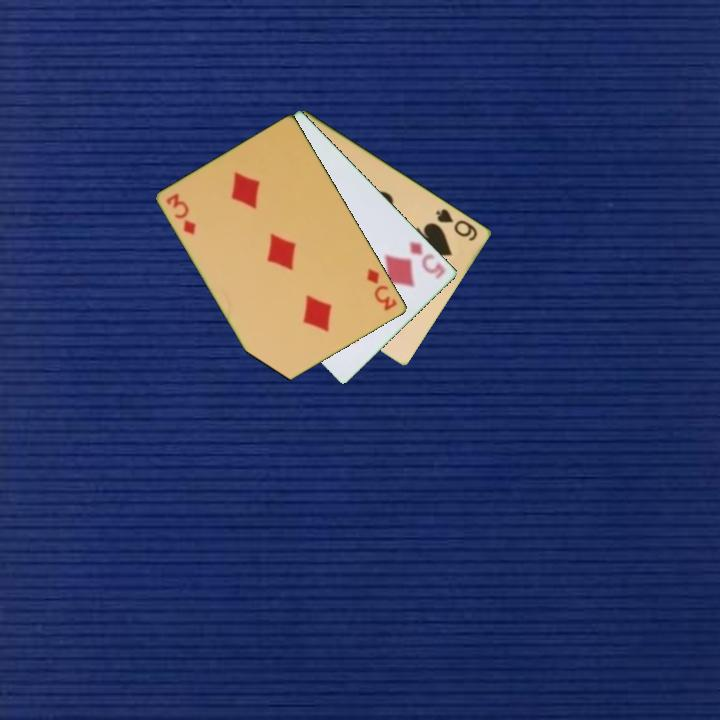3d: (363, 265, 400, 314), (163, 190, 199, 237)
5d: (406, 237, 449, 282)
6s: (433, 205, 481, 244)
